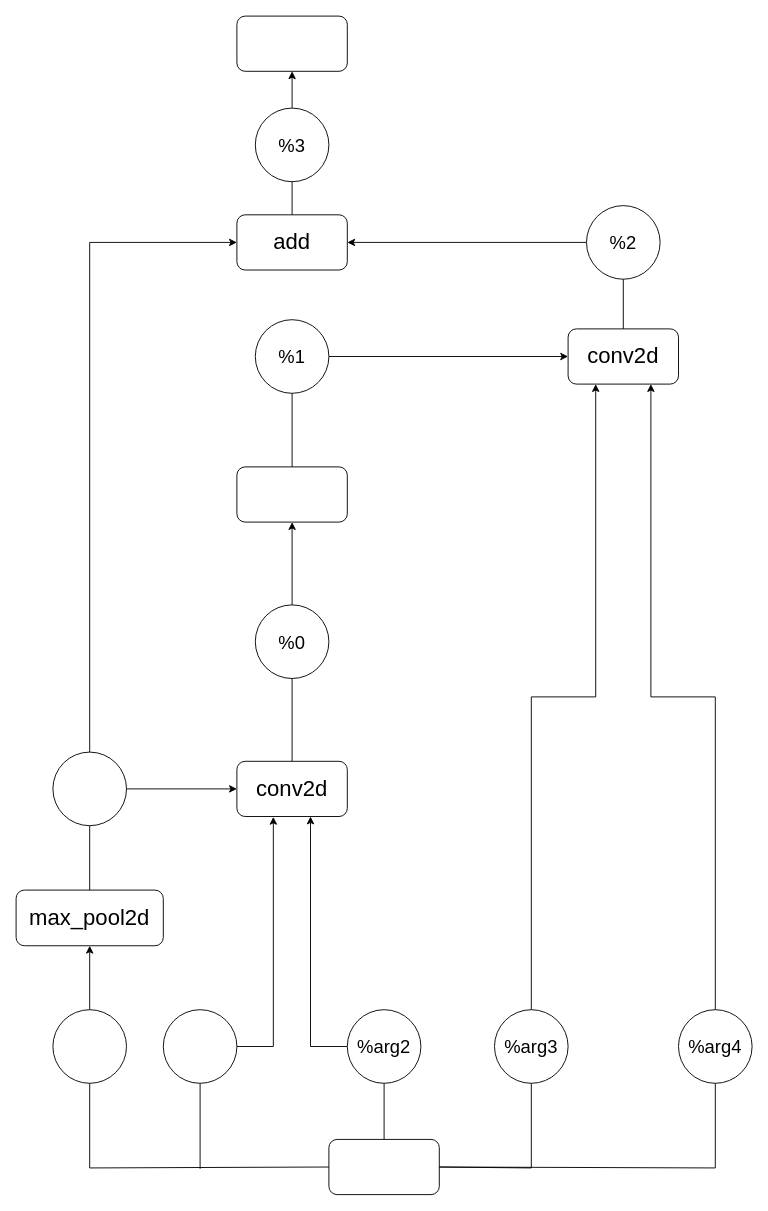
The diagram is 768 pixels wide and 1211 high, and some of its shapes have lost their labels. Each missing label, with the box of its shape:
%arg0: (52, 1009, 126, 1083)
%arg1: (162, 1009, 237, 1083)
%output: (52, 751, 126, 826)
begin: (328, 1138, 439, 1195)
end: (236, 15, 347, 71)
relu: (236, 466, 347, 522)
